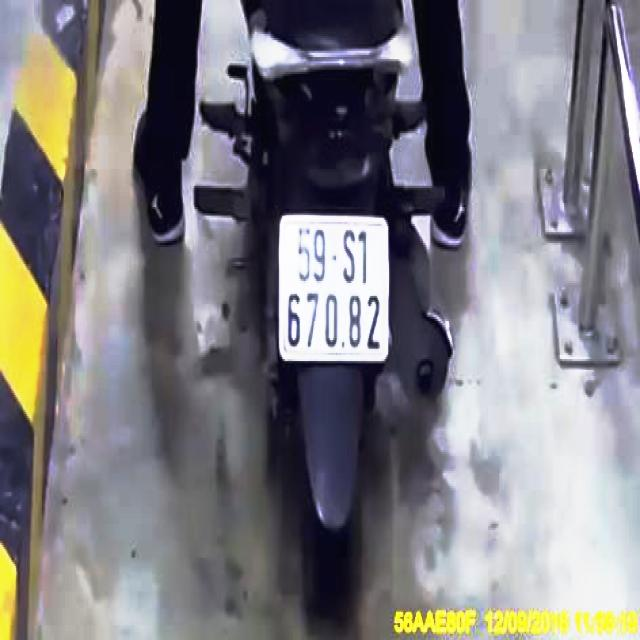license_plate: (278, 216, 391, 365)
